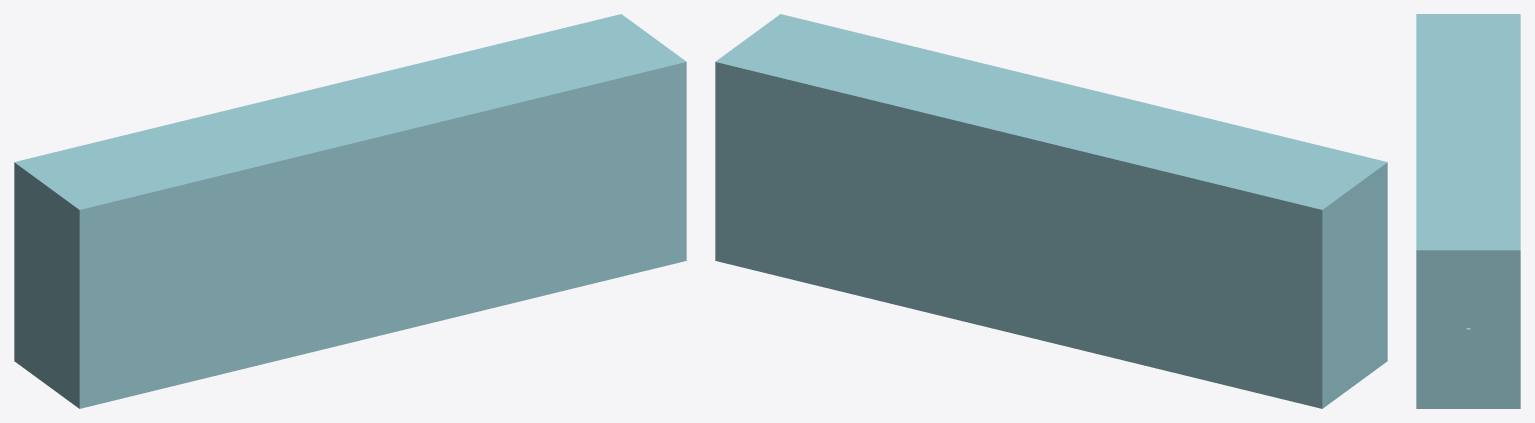
Rendered from cuboid_eraser_v7010.obj.
The picture shows the model from 3 angles, left to right: view 1: azimuth 30°, elevation 25°; view 2: azimuth 150°, elevation 25°; view 3: azimuth 270°, elevation 25°; orthographic projection. The views are drawn at different scales.
Bounding box in the file's own units: 0.1442 × 0.0448 × 0.0267.
1 material, 1 textured.
